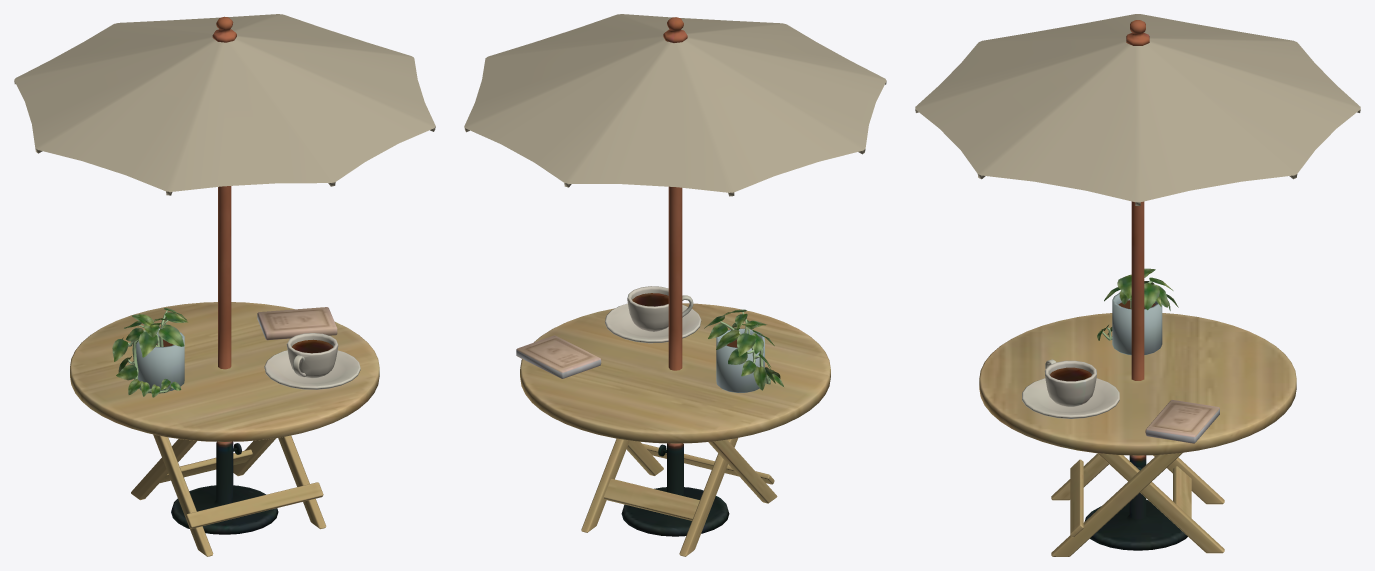
3 views of the same model, side by side, from view 1: azimuth 30°, elevation 25°; view 2: azimuth 150°, elevation 25°; view 3: azimuth 270°, elevation 25° (orthographic). The views are drawn at different scales.
Bounding box in the file's own units: 19.93 × 25 × 19.93.
Materials: 2 (2 with a texture image).
